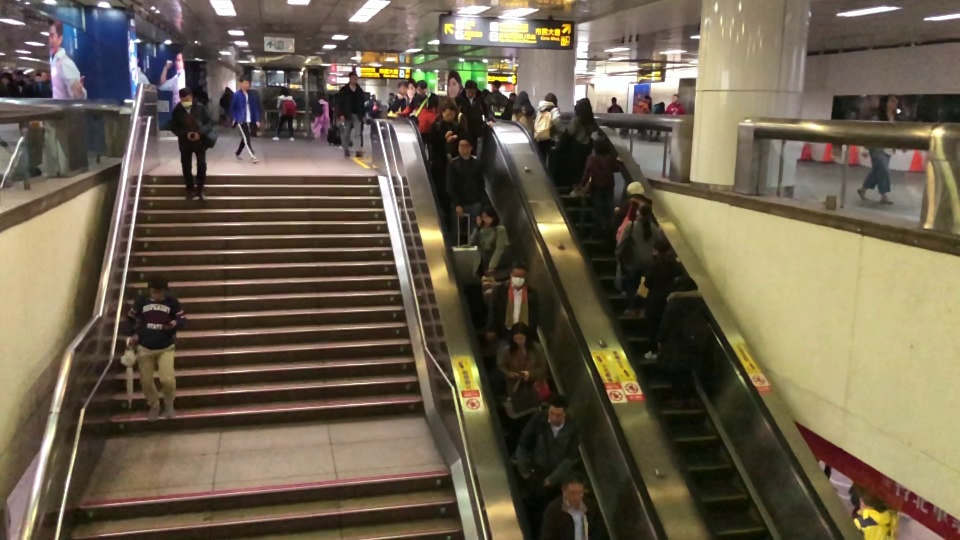person_head: (560, 471, 585, 509), (545, 393, 569, 427), (506, 260, 530, 288), (507, 321, 531, 347), (147, 275, 169, 301), (671, 272, 697, 294), (859, 492, 883, 511), (650, 240, 671, 260), (481, 205, 500, 227), (455, 137, 473, 160), (438, 94, 458, 113), (592, 136, 611, 156), (177, 86, 194, 108), (879, 93, 898, 112), (573, 97, 591, 116), (439, 105, 459, 122), (463, 79, 478, 99), (626, 181, 644, 196), (237, 74, 251, 92), (638, 203, 653, 219), (414, 79, 428, 96), (543, 92, 558, 106), (515, 90, 530, 104), (397, 79, 408, 95), (0, 72, 12, 86), (278, 85, 289, 98), (348, 72, 358, 86), (13, 69, 23, 81), (670, 93, 680, 103), (492, 79, 501, 90), (40, 71, 48, 82), (508, 92, 516, 102), (481, 88, 489, 97), (34, 72, 41, 82), (322, 93, 329, 102), (223, 86, 231, 93), (610, 97, 617, 105), (643, 95, 650, 103), (658, 101, 665, 109), (388, 91, 394, 98), (371, 93, 376, 99)
person_vbox: (513, 393, 581, 532), (125, 274, 186, 423), (656, 272, 711, 411), (495, 321, 547, 466), (484, 260, 540, 379), (614, 203, 664, 318), (856, 93, 907, 205), (575, 136, 625, 240), (640, 239, 682, 361), (169, 86, 213, 202), (427, 105, 468, 227), (442, 137, 486, 245), (537, 471, 605, 540), (564, 97, 598, 197), (454, 79, 495, 157), (396, 79, 438, 151), (228, 74, 261, 164), (468, 205, 507, 275), (335, 72, 366, 159), (533, 92, 564, 169), (852, 492, 898, 540), (613, 181, 653, 220), (271, 85, 297, 142), (664, 93, 688, 154), (510, 90, 537, 136), (438, 94, 468, 135), (484, 79, 509, 121), (310, 93, 330, 143), (387, 78, 410, 118), (632, 95, 650, 134), (648, 101, 665, 138), (218, 86, 233, 126), (13, 68, 32, 98), (0, 72, 20, 99), (38, 71, 52, 98), (367, 93, 382, 118), (606, 96, 624, 113), (30, 72, 41, 98), (386, 91, 395, 119)
